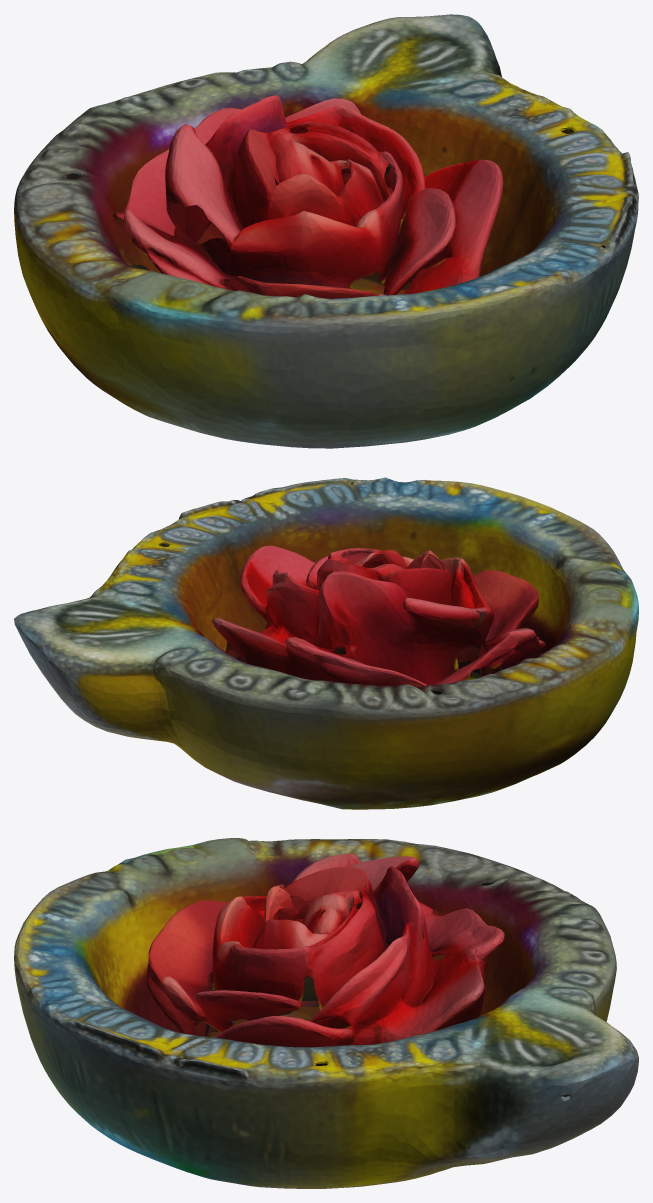
3 renders of one model, top to bottom at view 1: azimuth 30°, elevation 25°; view 2: azimuth 150°, elevation 25°; view 3: azimuth 270°, elevation 25°, orthographic. The views are drawn at different scales.
Parts seen in each view (by area): view 1: world; view 2: world; view 3: world.
Boxes of the visible parts, x1,y1,x2,y2 form: world: [14, 14, 638, 448]; world: [14, 477, 638, 809]; world: [14, 838, 638, 1188].
Size of the model in its own units: 0.9832 by 0.3875 by 0.999.
1 material, 1 textured.
